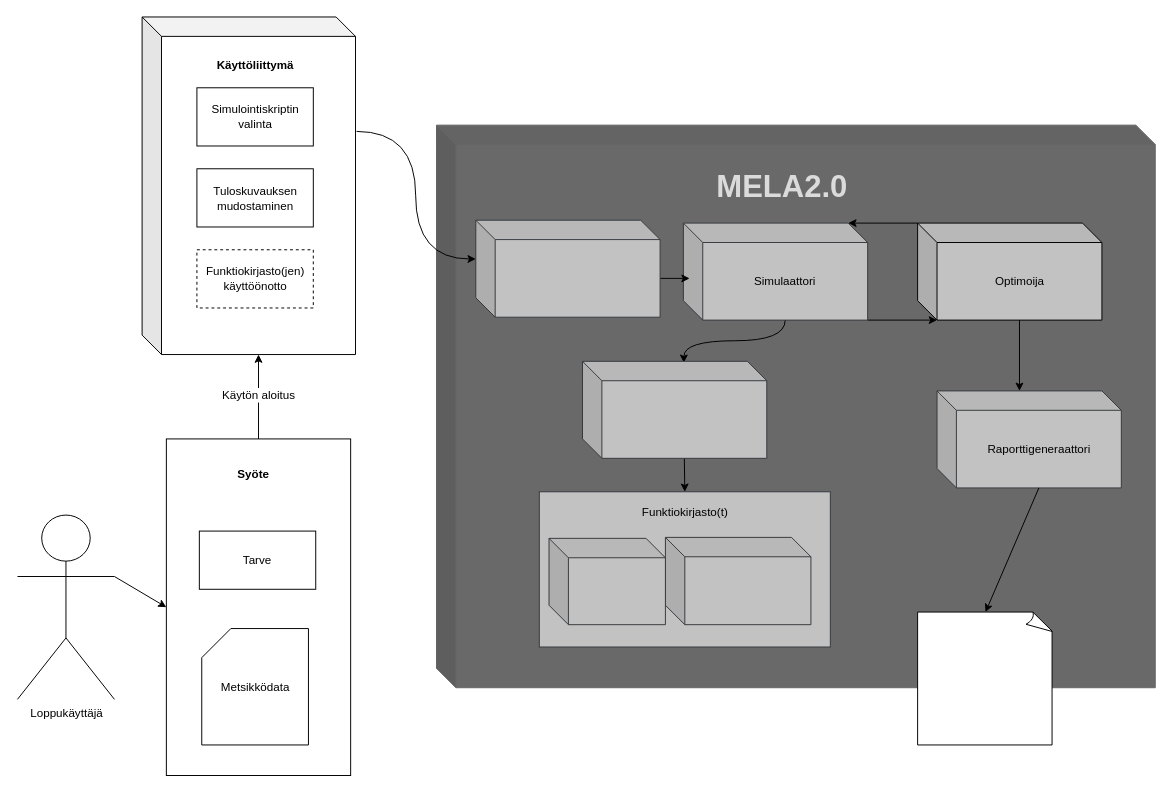
The diagram is 1172 pixels wide and 792 high, and some of its shapes have lost their labels. The shapes that lost their labels are listed below. From the top down, each one's centre as x and y in pixels, then its label:
the point at 567,268: Datan täydennys (Esiprosessointi)
the point at 674,409: Hakukone
the point at 606,581: Peruskirjasto
the point at 737,580: Sisällytettykirjasto
the point at 985,678: Laskennantulos
